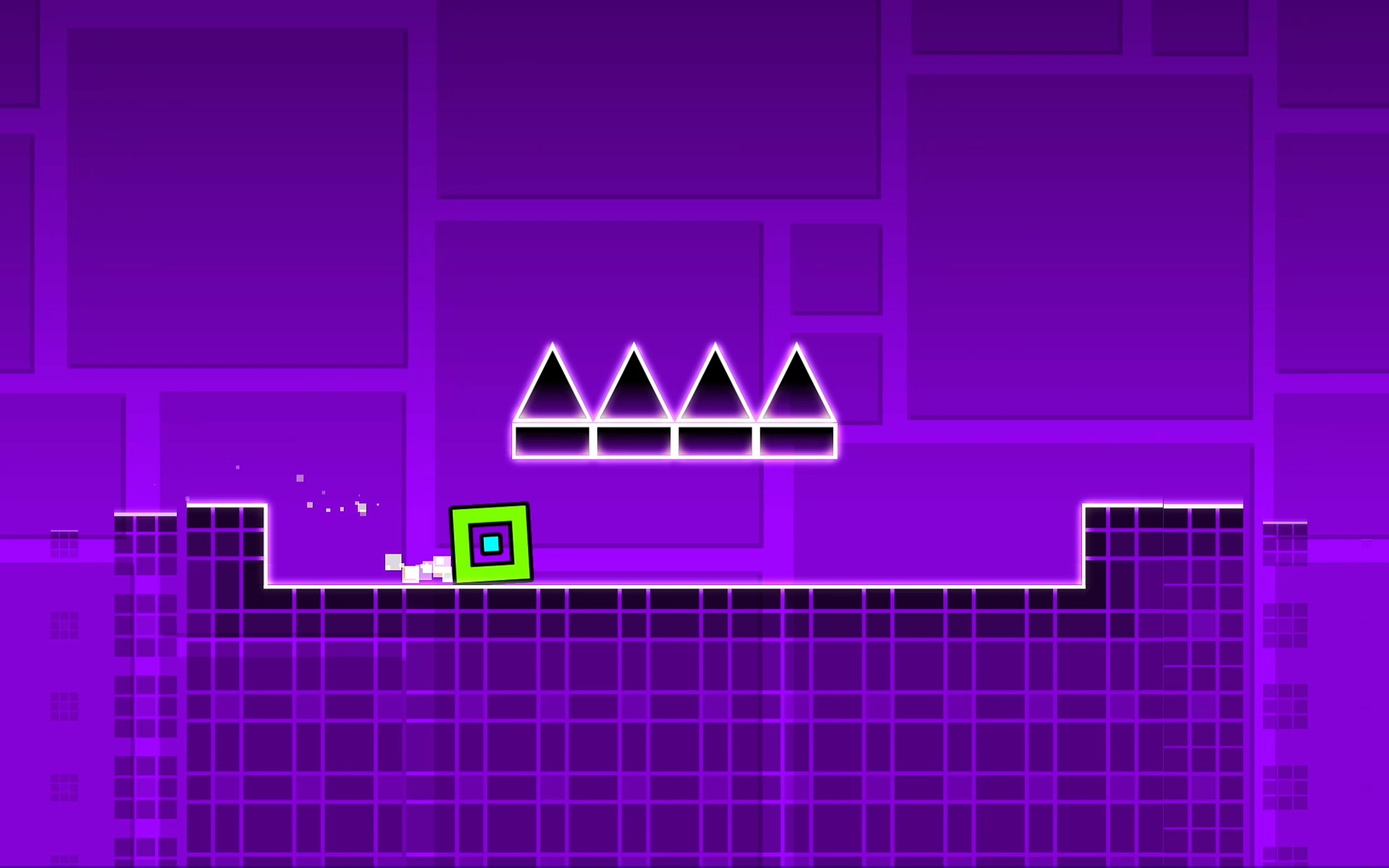Block2: (264, 587, 1082, 868), (1089, 506, 1307, 868), (111, 507, 266, 868)
Block3: (756, 422, 839, 458), (676, 423, 756, 459), (592, 429, 673, 459), (515, 424, 585, 458)
Player: (447, 503, 531, 582)
Spike: (515, 344, 589, 419), (760, 344, 834, 419), (597, 344, 670, 419), (679, 344, 751, 417)
